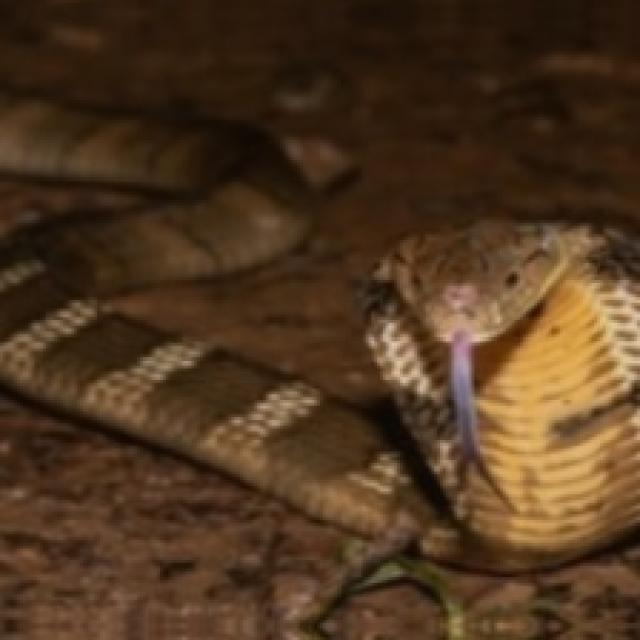king cobra: (0, 91, 637, 597)
